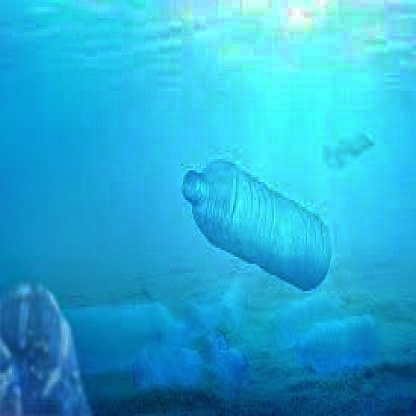pbottle: (177, 157, 333, 293), (1, 270, 92, 416), (48, 284, 183, 362), (127, 346, 245, 393), (301, 316, 386, 380), (173, 275, 251, 332), (259, 300, 342, 343)
